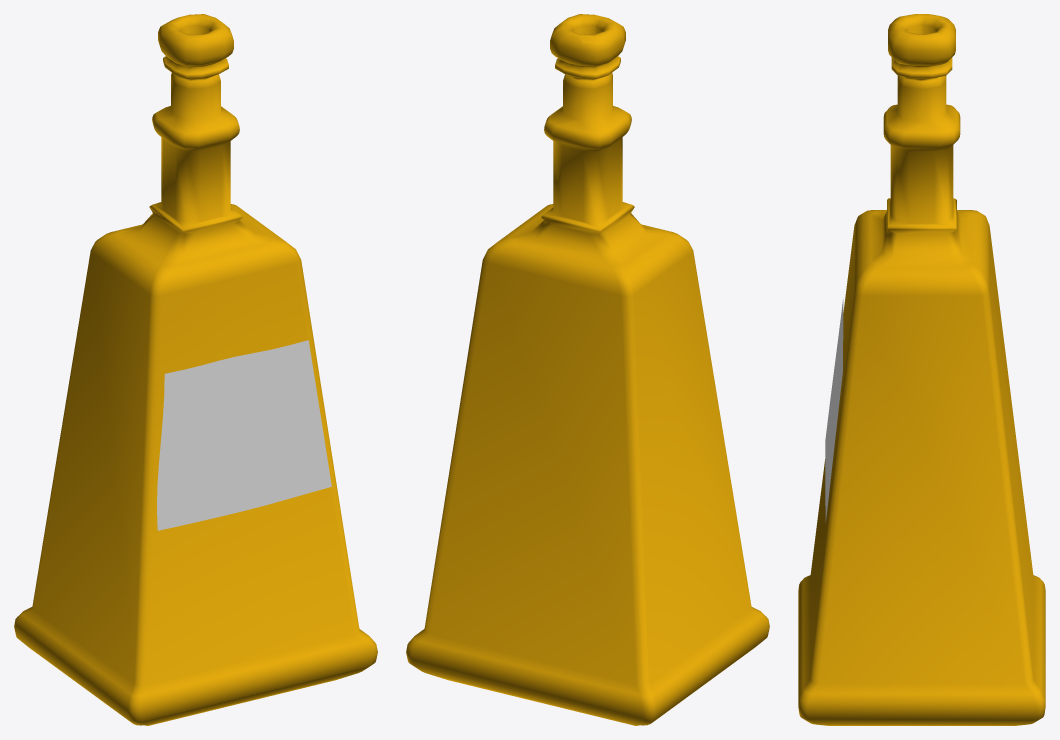
File: Bottle_2.fbx
3 views of the same model, side by side, from view 1: azimuth 30°, elevation 25°; view 2: azimuth 150°, elevation 25°; view 3: azimuth 270°, elevation 25° (orthographic).
Visible parts, largest first — view 1: Bottle_2 - Twin-Eyed Reserve; view 2: Bottle_2 - Twin-Eyed Reserve; view 3: Bottle_2 - Twin-Eyed Reserve.
Part boxes in pixels (x1,y1,x2,y2): Bottle_2 - Twin-Eyed Reserve: (14, 14, 377, 725); Bottle_2 - Twin-Eyed Reserve: (406, 14, 769, 725); Bottle_2 - Twin-Eyed Reserve: (798, 14, 1045, 725).
Bounding box in the file's own units: 12.8 × 31.7 × 10.86.
